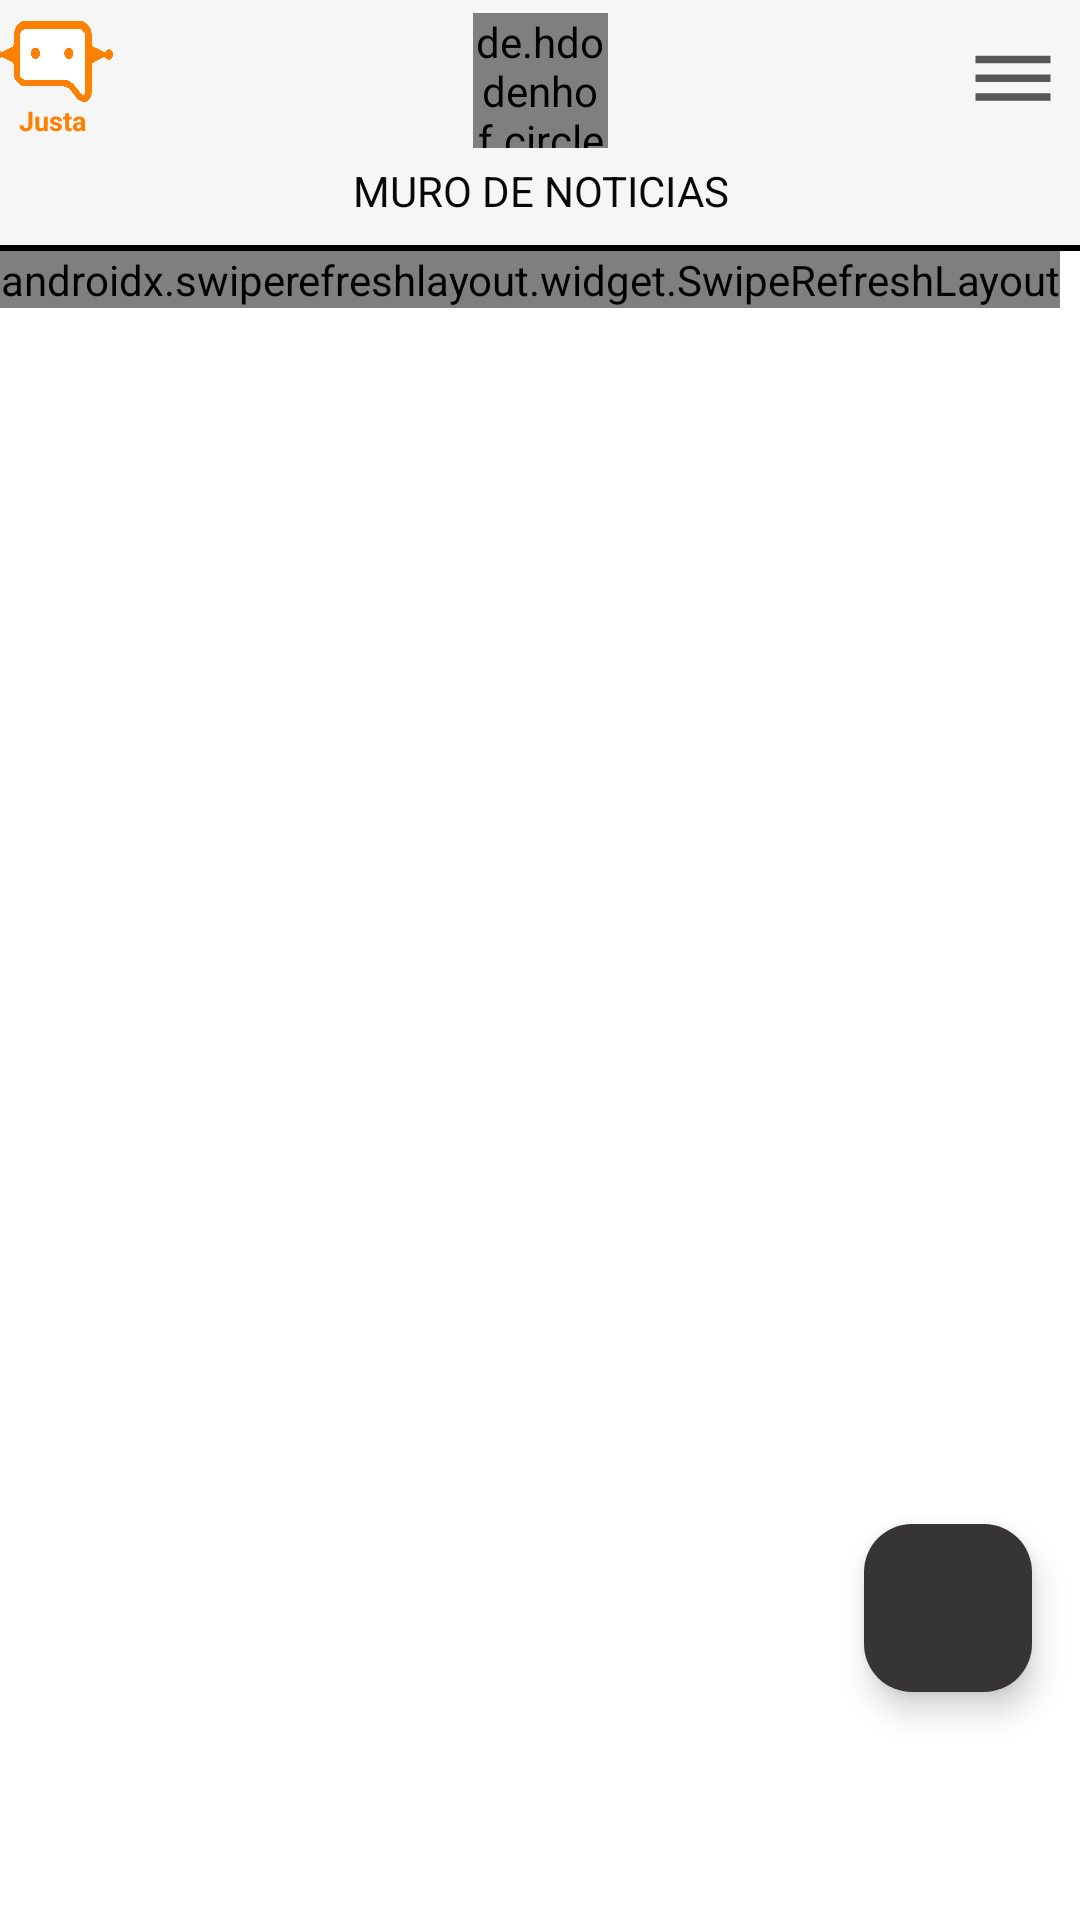

Where to tap for icons on this 1080px x 1920px app screen, as point (x, y):
dehaze: point (1013, 78)
